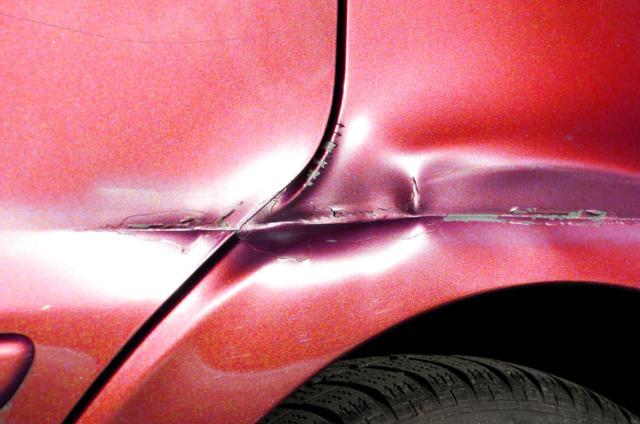Fender: (121, 84, 640, 375)
